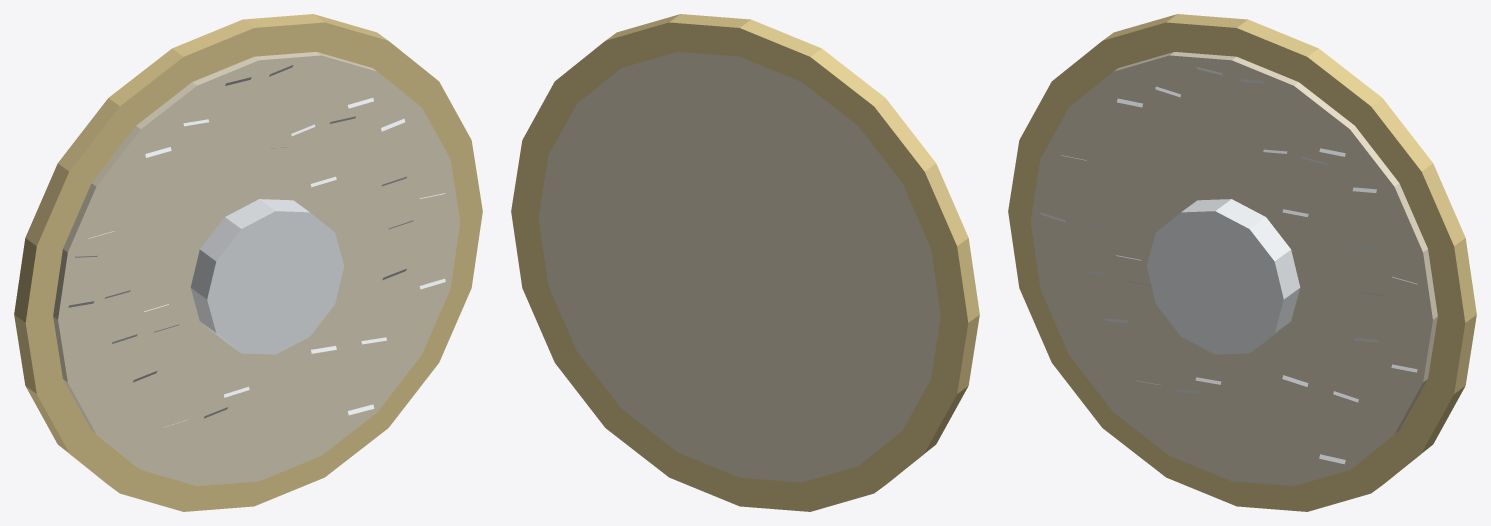
The model's file is kit_mirror_medallion.glb.
The picture shows the model from 3 angles, left to right: view 1: azimuth 30°, elevation 25°; view 2: azimuth 150°, elevation 25°; view 3: azimuth 330°, elevation 25°; orthographic projection.
Visible parts, largest first — view 1: kit_mirror_medallion; view 2: kit_mirror_medallion; view 3: kit_mirror_medallion.
Boxes of the visible parts, x1,y1,x2,y2 form: kit_mirror_medallion: (14,14,482,511); kit_mirror_medallion: (511,14,979,511); kit_mirror_medallion: (1008,14,1476,511).
Bounding box in the file's own units: 0.8 × 0.8 × 0.1.
